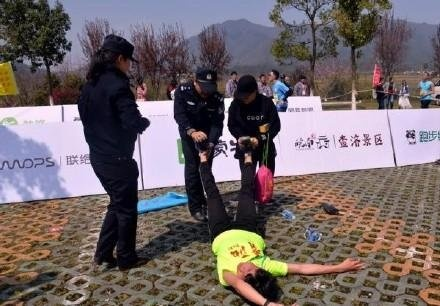falling: (174, 142, 369, 300)
